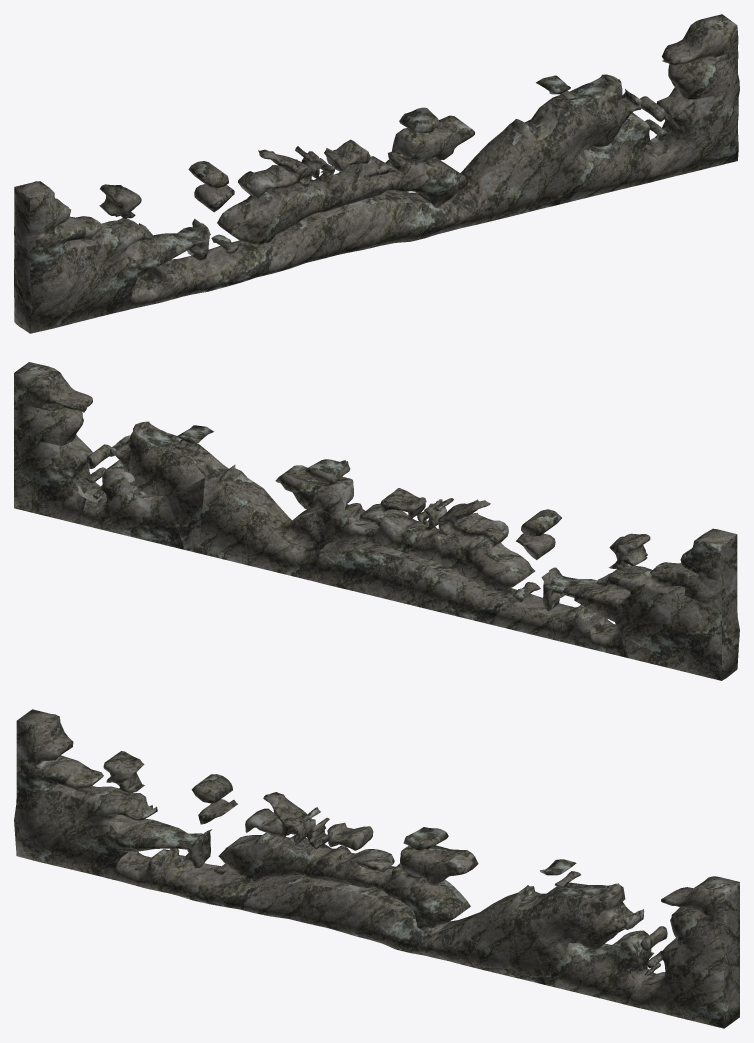
File: map01_3_.fbx
3 views of the same model, one above another, from view 1: azimuth 30°, elevation 25°; view 2: azimuth 150°, elevation 25°; view 3: azimuth 330°, elevation 25° (orthographic).
Visible parts, largest first — view 1: Retopo_Curve.057, Retopo_Curve.055, Retopo_Curve.051, Retopo_Curve.054, Retopo_Curve.074, Retopo_Curve.001, Retopo_Curve.049, Retopo_Curve.056, Retopo_Curve.053, Retopo_Curve.076, Retopo_Curve.075, Retopo_Curve.083 (+11 smaller); view 2: Retopo_Curve.057, Retopo_Curve.055, Retopo_Curve.051, Retopo_Curve.054, Retopo_Curve.074, Retopo_Curve.001, Retopo_Curve.049, Retopo_Curve.056, Retopo_Curve.076, Retopo_Curve.053, Retopo_Curve.075, Retopo_Curve.083 (+11 smaller); view 3: Retopo_Curve.055, Retopo_Curve.057, Retopo_Curve.051, Retopo_Curve.054, Retopo_Curve.074, Retopo_Curve.049, Retopo_Curve.001, Retopo_Curve.056, Retopo_Curve.052, Retopo_Curve.075, Retopo_Curve.053, Retopo_Curve.083 (+11 smaller).
Part boxes in pixels (left/top/right/bottom): Retopo_Curve.057: left=14, top=218, right=152, bottom=333; Retopo_Curve.055: left=208, top=190, right=443, bottom=286; Retopo_Curve.051: left=437, top=119, right=568, bottom=234; Retopo_Curve.054: left=217, top=156, right=398, bottom=244; Retopo_Curve.074: left=654, top=87, right=739, bottom=177; Retopo_Curve.001: left=531, top=74, right=642, bottom=163; Retopo_Curve.049: left=573, top=112, right=671, bottom=200; Retopo_Curve.056: left=130, top=252, right=227, bottom=309; Retopo_Curve.053: left=388, top=115, right=474, bottom=174; Retopo_Curve.076: left=662, top=14, right=738, bottom=65; Retopo_Curve.075: left=668, top=54, right=739, bottom=99; Retopo_Curve.083: left=14, top=181, right=70, bottom=235; Retopo_Curve.057: left=596, top=565, right=739, bottom=680; Retopo_Curve.055: left=314, top=539, right=542, bottom=633; Retopo_Curve.051: left=199, top=464, right=319, bottom=581; Retopo_Curve.054: left=353, top=503, right=535, bottom=591; Retopo_Curve.074: left=14, top=435, right=100, bottom=524; Retopo_Curve.001: left=109, top=421, right=222, bottom=497; Retopo_Curve.049: left=80, top=460, right=184, bottom=549; Retopo_Curve.056: left=529, top=601, right=627, bottom=657; Retopo_Curve.076: left=14, top=362, right=92, bottom=412; Retopo_Curve.053: left=275, top=465, right=362, bottom=517; Retopo_Curve.075: left=14, top=402, right=83, bottom=445; Retopo_Curve.083: left=680, top=528, right=737, bottom=582; Retopo_Curve.055: left=202, top=868, right=423, bottom=955; Retopo_Curve.057: left=14, top=784, right=157, bottom=880; Retopo_Curve.051: left=416, top=885, right=545, bottom=984; Retopo_Curve.054: left=218, top=832, right=395, bottom=890; Retopo_Curve.074: left=649, top=938, right=739, bottom=1028; Retopo_Curve.049: left=554, top=930, right=664, bottom=1011; Retopo_Curve.001: left=530, top=882, right=644, bottom=951; Retopo_Curve.056: left=116, top=848, right=221, bottom=903; Retopo_Curve.052: left=383, top=873, right=470, bottom=936; Retopo_Curve.075: left=670, top=907, right=739, bottom=957; Retopo_Curve.053: left=391, top=845, right=478, bottom=887; Retopo_Curve.083: left=16, top=709, right=73, bottom=765.
Size of the model in its own units: 285 by 52.51 by 18.35.
Materials: 1 (1 with a texture image).
